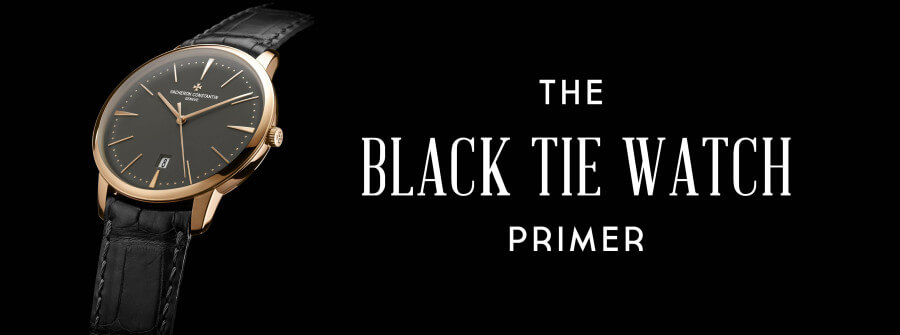clock: (102, 46, 265, 190)
